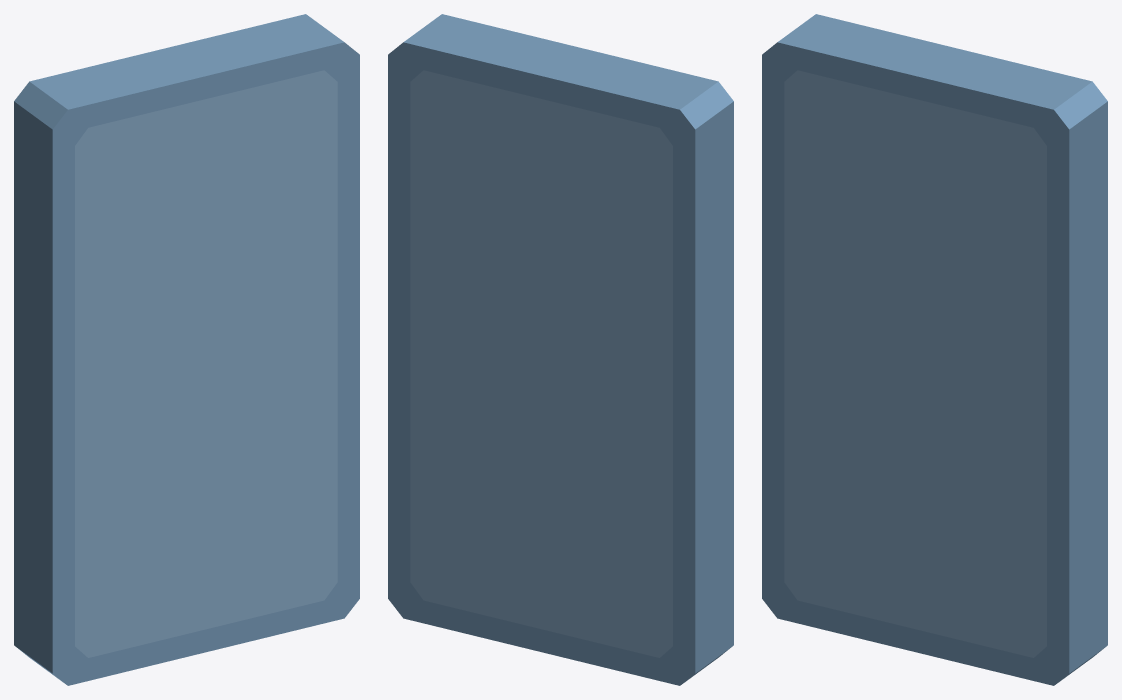
The model's file is Visuals.fbx.
The picture shows the model from 3 angles, left to right: view 1: azimuth 30°, elevation 25°; view 2: azimuth 150°, elevation 25°; view 3: azimuth 330°, elevation 25°; orthographic projection.
Visible parts, largest first — view 1: box; view 2: box; view 3: box.
Part boxes in pixels (x1,y1,x2,y2): box: [14, 14, 359, 685]; box: [388, 14, 733, 685]; box: [762, 14, 1107, 685].
Size of the model in its own units: 0.988 by 1.77 by 0.2154.
